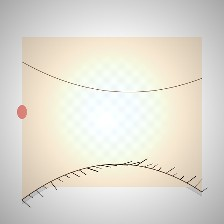hemorrhage_spot: (27, 78, 118, 150)
